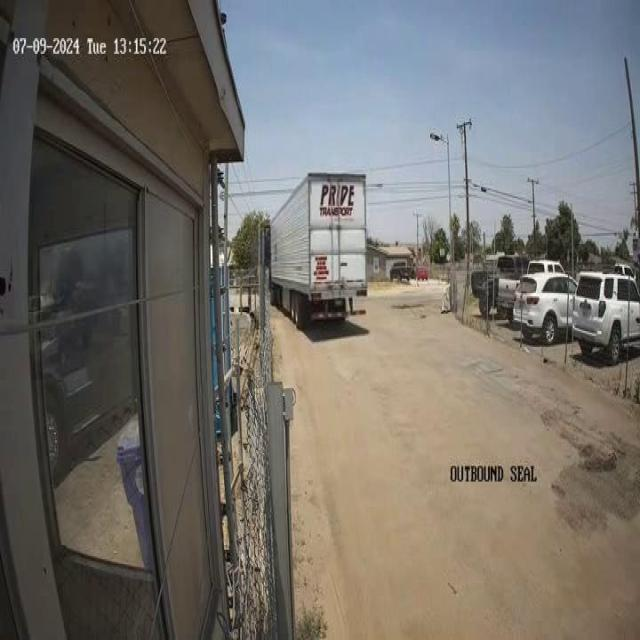TRUCK_CONTAINER: (267, 170, 368, 330)
